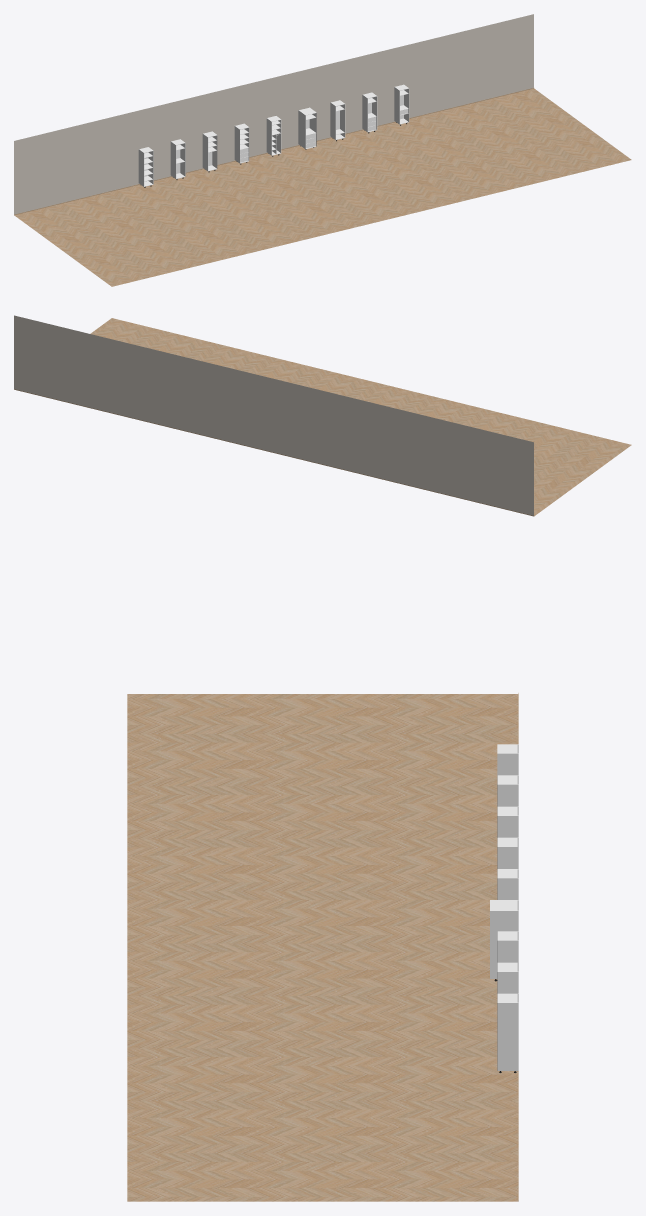
The model's file is modules.glb.
3 renders of one model, top to bottom at view 1: azimuth 30°, elevation 25°; view 2: azimuth 150°, elevation 25°; view 3: azimuth 270°, elevation 25°, orthographic. The views are drawn at different scales.
Visible parts, largest first — view 1: Ruimte, Module1; view 2: Ruimte; view 3: Ruimte, Module1.
Part boxes in pixels (x1=…): Ruimte: x1=14, y1=14, x2=631, y2=286; Module1: x1=138, y1=84, x2=409, y2=187; Ruimte: x1=14, y1=315, x2=631, y2=516; Ruimte: x1=127, y1=693, x2=518, y2=1201; Module1: x1=490, y1=744, x2=518, y2=1072.
Bounding box in the file's own units: 32.56 × 4.44 × 10.62.
5 materials, 1 textured.
